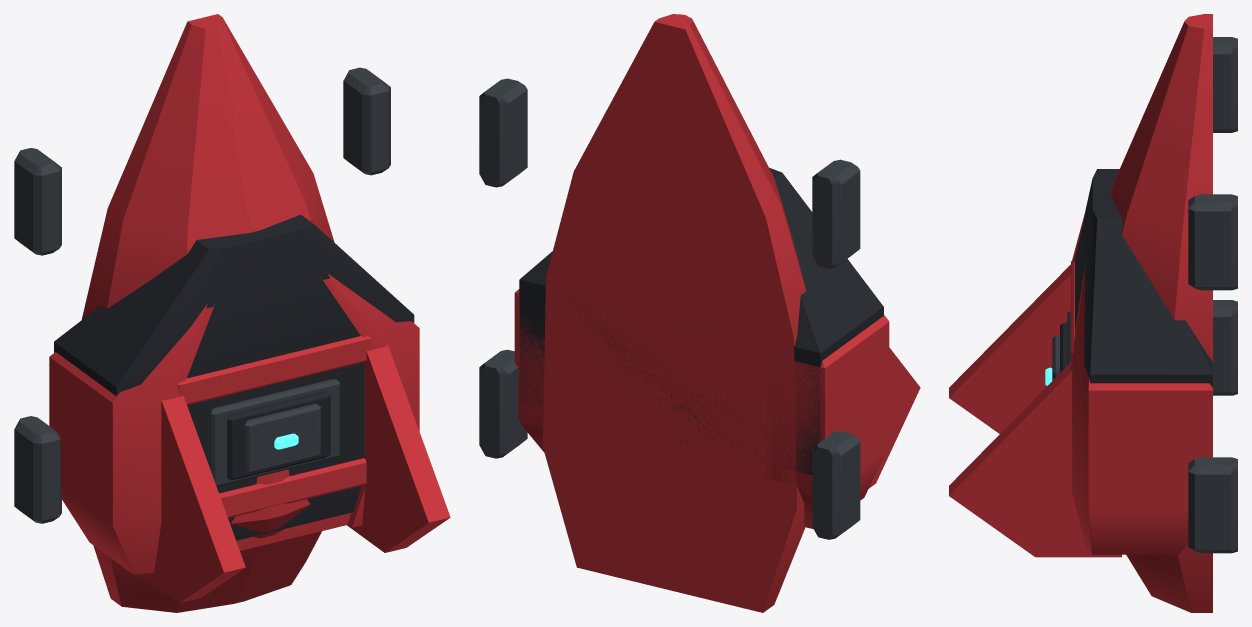
The model's file is CalfBack_Set09_Mantis.fbx.
3 renders of one model, left to right at view 1: azimuth 30°, elevation 25°; view 2: azimuth 150°, elevation 25°; view 3: azimuth 270°, elevation 25°, orthographic. The views are drawn at different scales.
Parts seen in each view (by area): view 1: CalfBack_Set09_Mantis; view 2: CalfBack_Set09_Mantis; view 3: CalfBack_Set09_Mantis.
Boxes of the visible parts, x1,y1,x2,y2 form: CalfBack_Set09_Mantis: (14,14,450,612); CalfBack_Set09_Mantis: (479,14,920,612); CalfBack_Set09_Mantis: (949,14,1237,612).
Size of the model in its own units: 0.49 by 0.73 by 0.3489.
